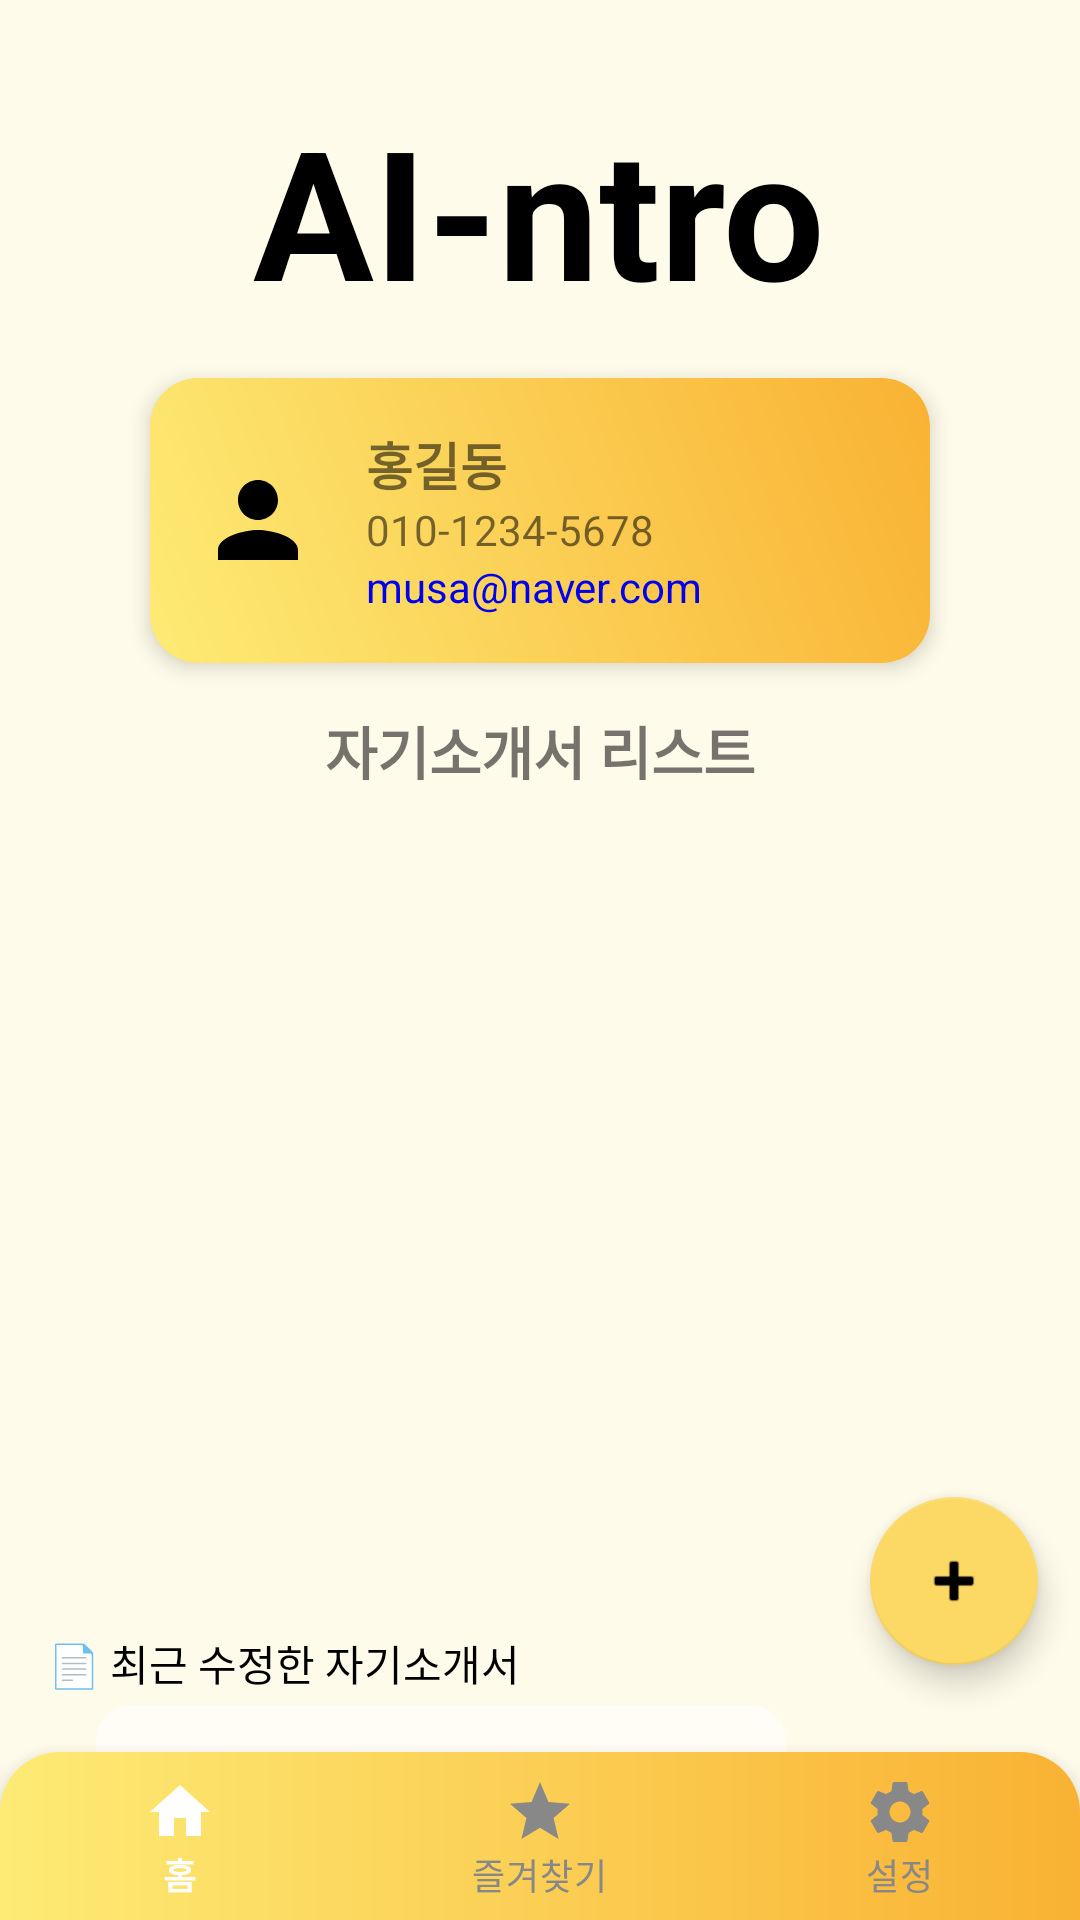

Icon bounding boxes for this 1080×1920 phone screenshot, format (x1, y1, x2, y2):
사용자 아이콘: (218, 480, 298, 560)
자기소개서 생성: (870, 1497, 1038, 1665)
